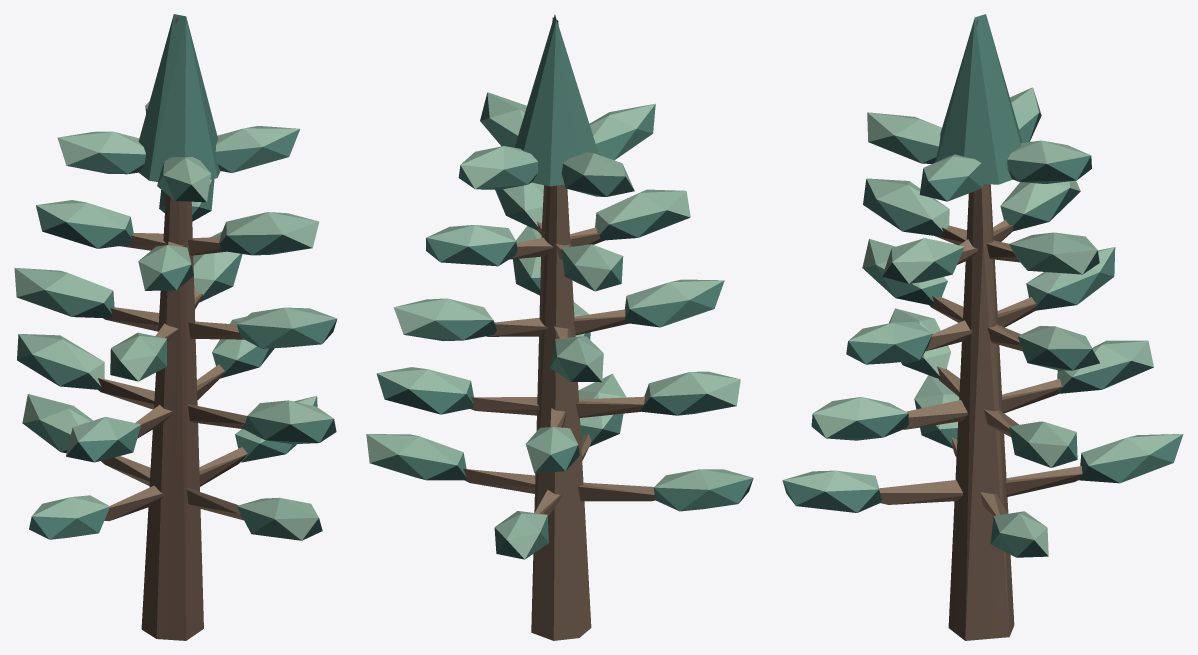
The picture shows the model from 3 angles, left to right: view 1: azimuth 30°, elevation 25°; view 2: azimuth 150°, elevation 25°; view 3: azimuth 270°, elevation 25°; orthographic projection.
Visible parts, largest first — view 1: WK_Tree_Fir_SilverYoung_LOD1_Balanced; view 2: WK_Tree_Fir_SilverYoung_LOD1_Balanced; view 3: WK_Tree_Fir_SilverYoung_LOD1_Balanced.
Part boxes in pixels (x1,y1,x2,y2): WK_Tree_Fir_SilverYoung_LOD1_Balanced: (14, 14, 337, 640); WK_Tree_Fir_SilverYoung_LOD1_Balanced: (366, 14, 753, 640); WK_Tree_Fir_SilverYoung_LOD1_Balanced: (782, 14, 1183, 640).
Size of the model in its own units: 4.31 by 7.46 by 4.39.
